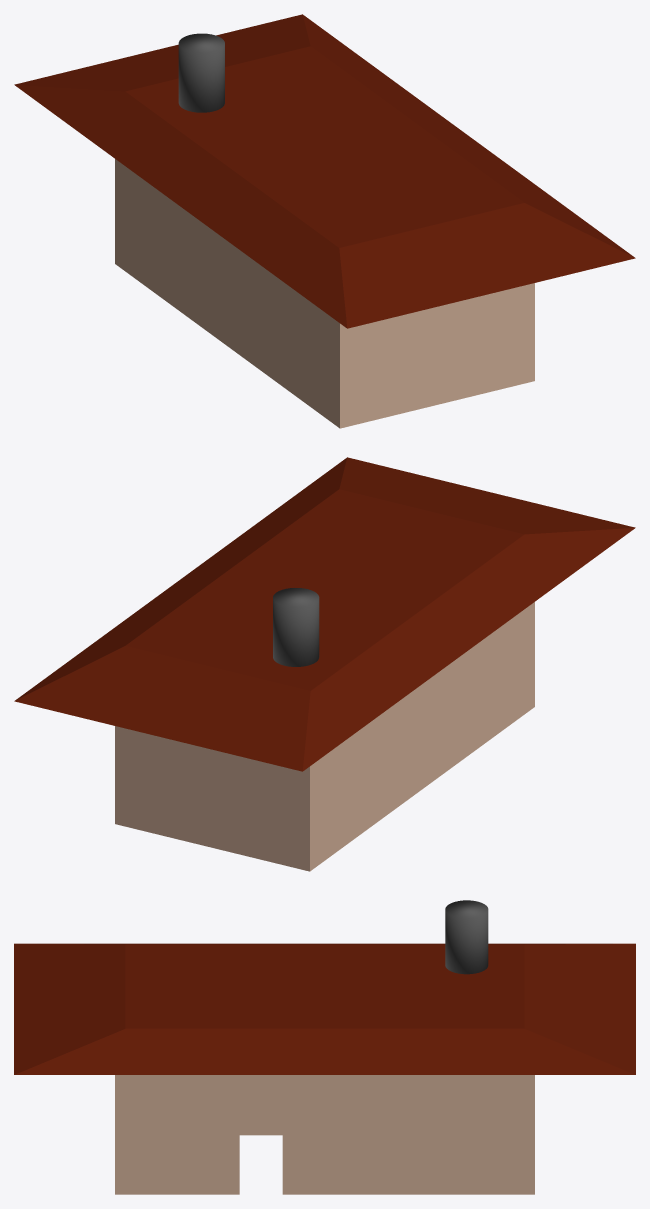
The model's file is house_new.glb.
3 renders of one model, top to bottom at view 1: azimuth 30°, elevation 25°; view 2: azimuth 150°, elevation 25°; view 3: azimuth 270°, elevation 25°, orthographic. The views are drawn at different scales.
Parts seen in each view (by area): view 1: Куб, Цилиндр; view 2: Куб, Цилиндр; view 3: Куб, Цилиндр.
Part boxes in pixels (x1,y1,x2,y2): Куб: (14, 14, 635, 428); Цилиндр: (178, 33, 224, 112); Куб: (14, 457, 635, 871); Цилиндр: (273, 588, 319, 666); Куб: (14, 943, 635, 1194); Цилиндр: (445, 900, 488, 974).
Bounding box in the file's own units: 14.4 × 11.2 × 28.79.
